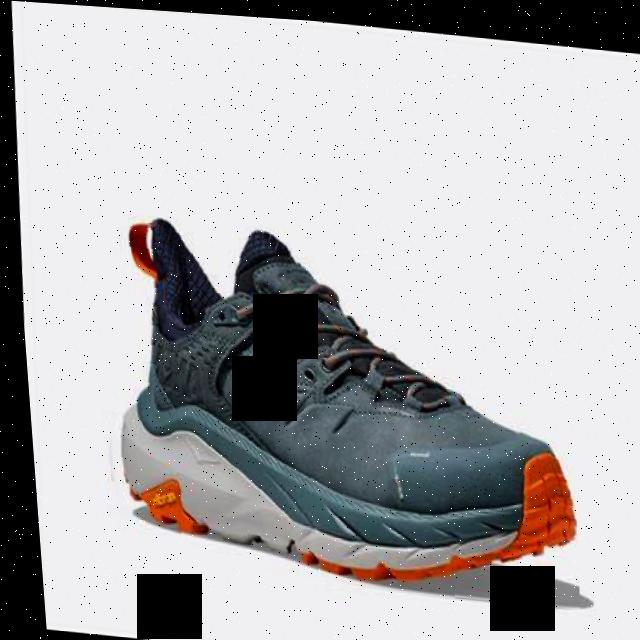shoe: (96, 201, 570, 591)
